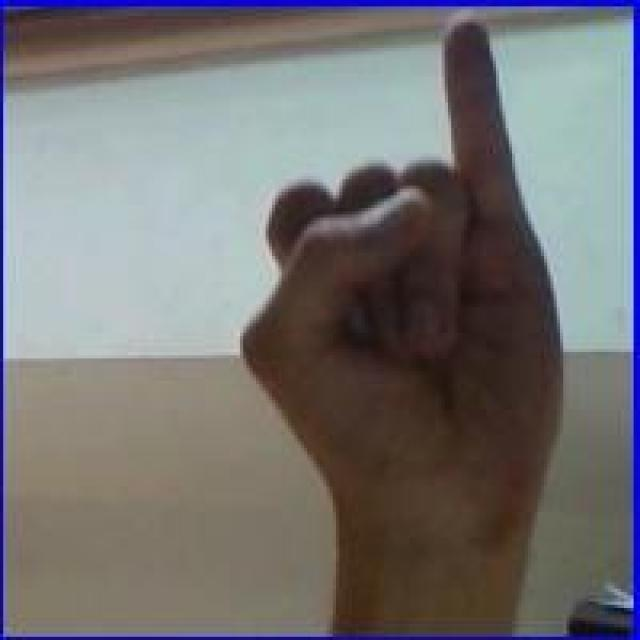I: (238, 11, 568, 501)
